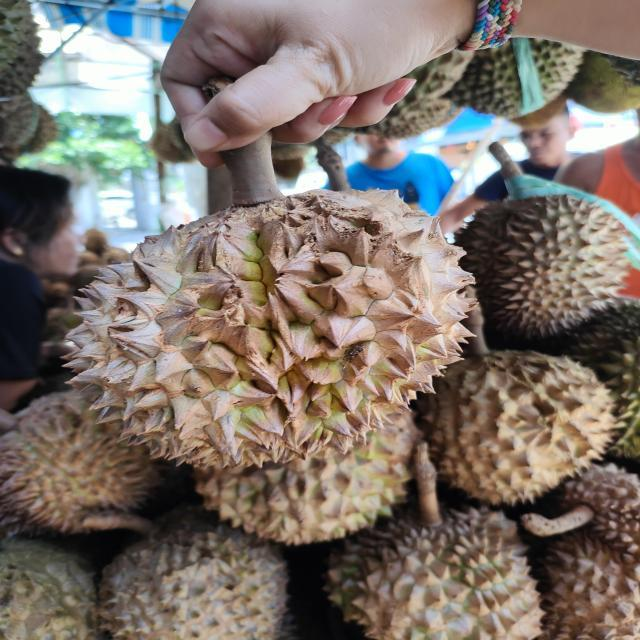mature: (63, 187, 477, 477), (419, 350, 617, 512), (428, 194, 634, 340)
